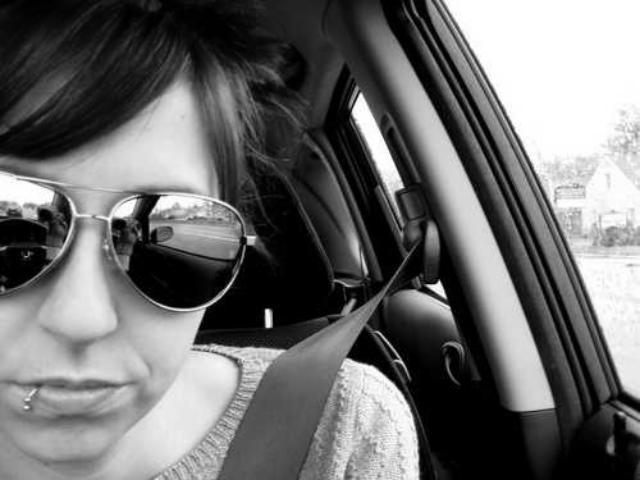Seatbelt: (214, 186, 430, 480)
